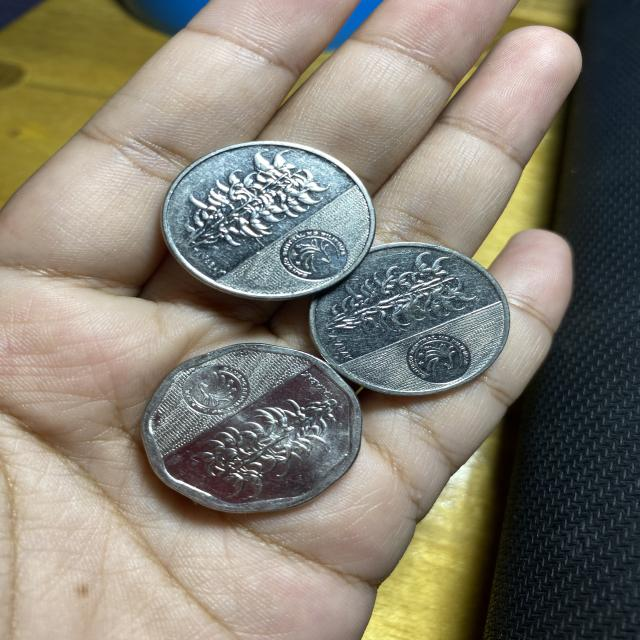5_New_Back: (181, 158, 327, 254), (202, 394, 333, 490), (340, 263, 464, 343)
